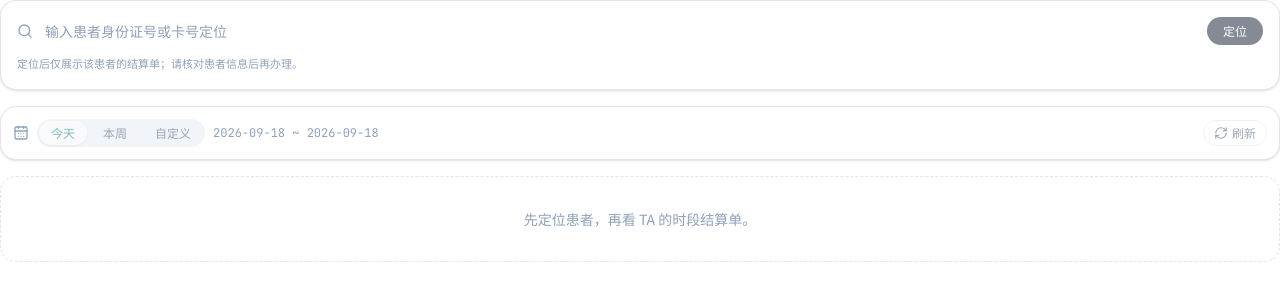
Scenario: SettlementTimeBrowser（患者定位 + 时间浏览） › 空结果展示空状态提示
Type "110103194203280937" into the field labelled "患者身份证号或卡号". click: coordinates (620, 31)
box: [41,17,1199,45]
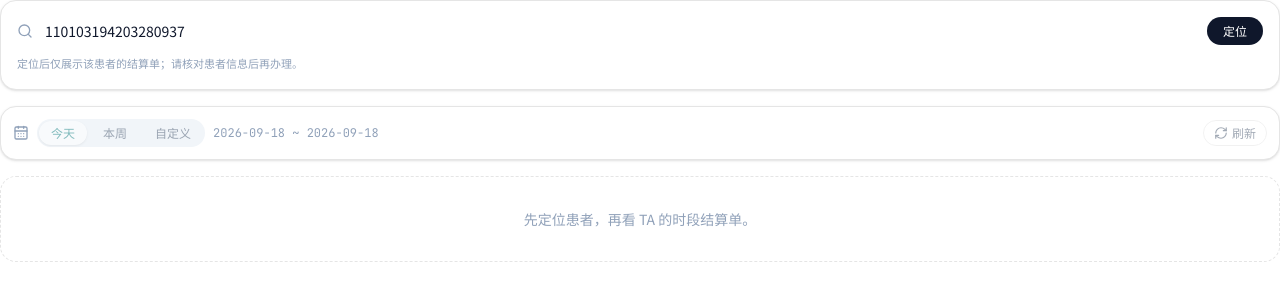
Click the button "定位". click: coordinates (1235, 31)
box: [1207,17,1263,45]
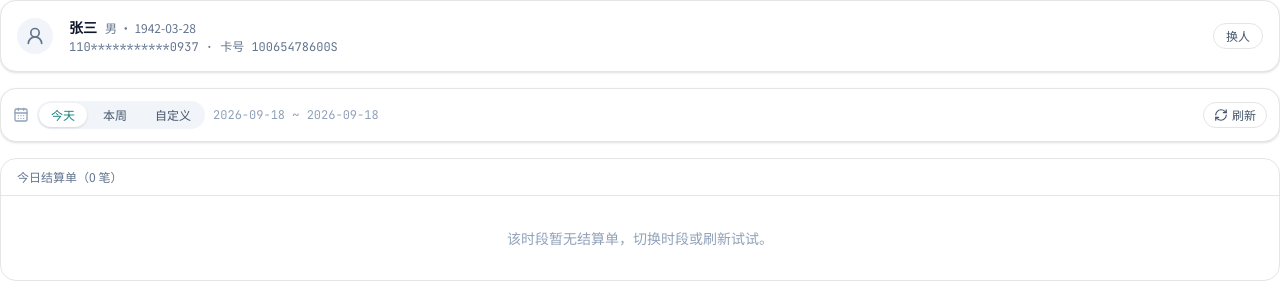
Check: the element with test id "patient-card" is shown, box [0,0,1279,72]
Check: the text "该时段暂无结算单，切换时段或刷新试试。" is shown, box [507,228,773,248]
